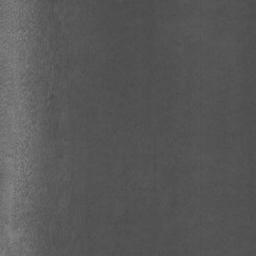Silk spot: (0, 0, 96, 256), (119, 166, 156, 199), (107, 210, 130, 234)
